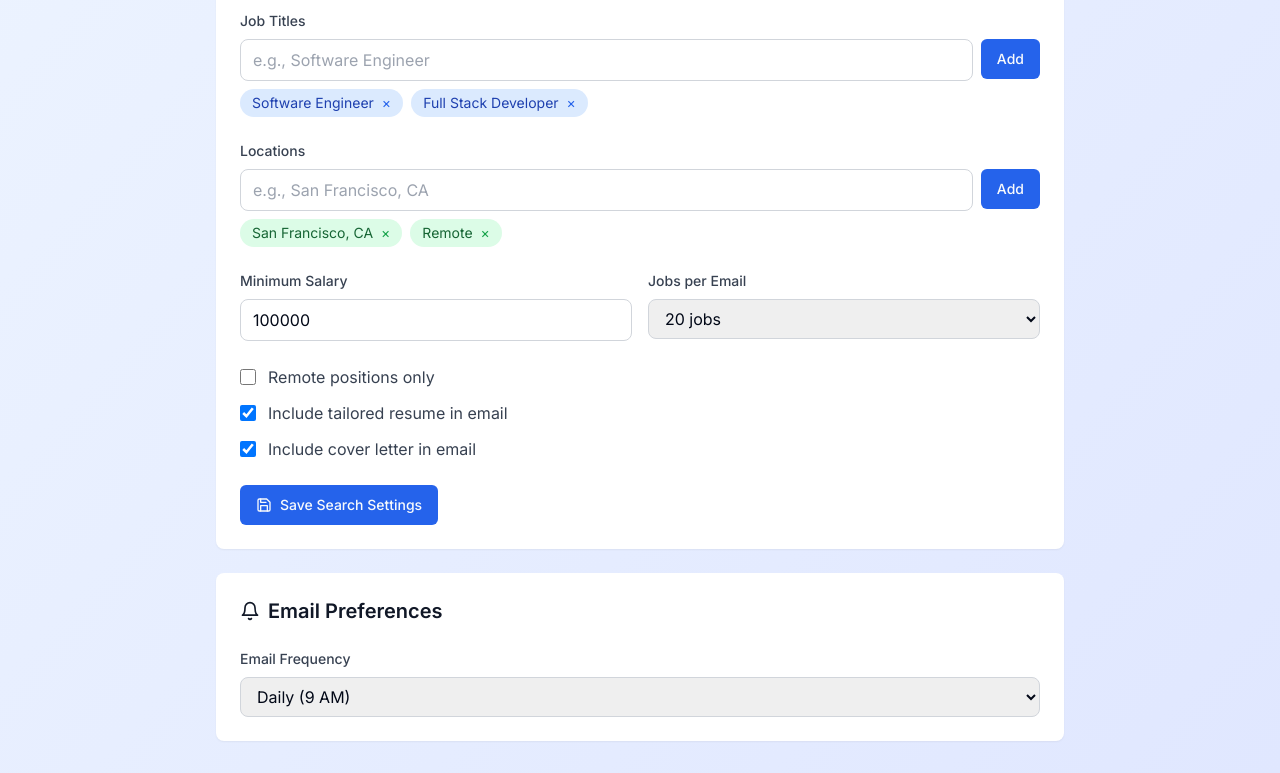
Test: SettingsPage › Search Settings › saves search settings
The image size is (1280, 773).
(page scrolled)
Expected: the text "Software Engineer" is shown, [252, 94, 374, 111]
Click the button "Save Search Settings". click: click(339, 505)
box: [240, 485, 438, 525]
(page scrolled)
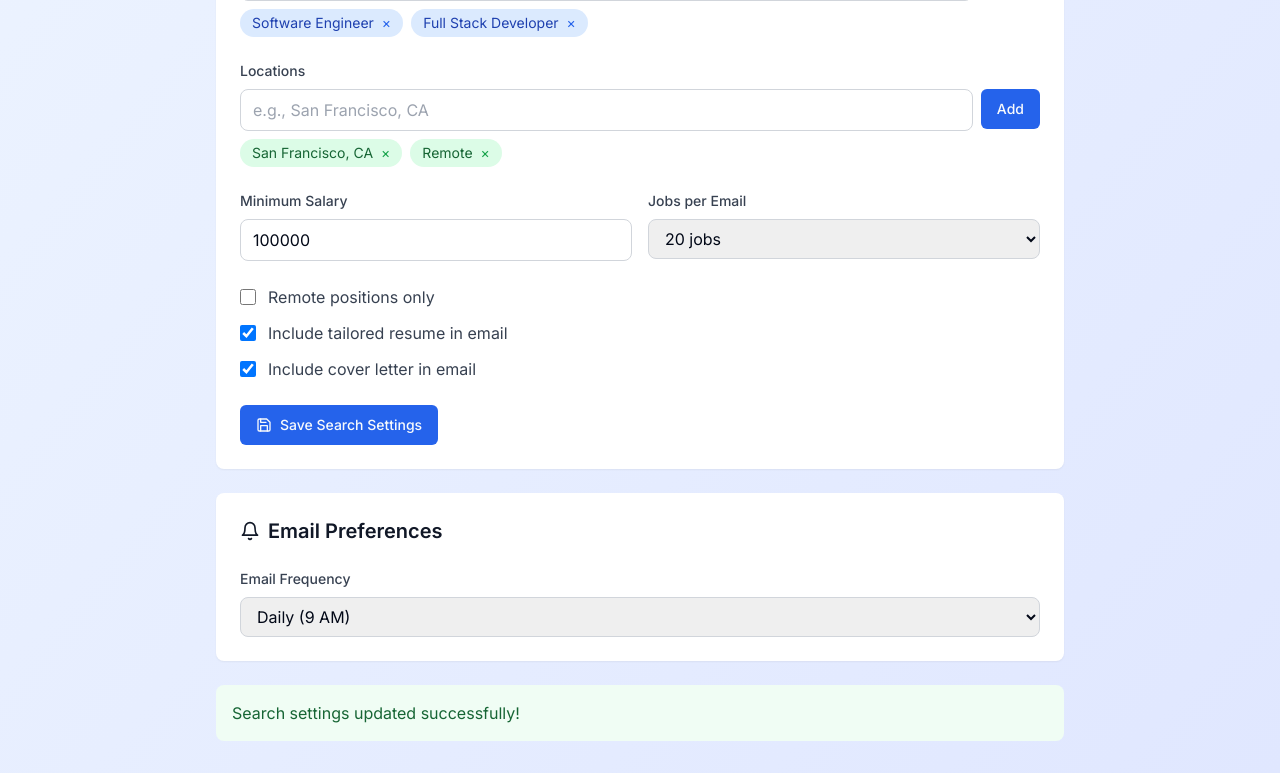
Result: the text "Search settings updated successfully!" is shown at [216, 685, 1064, 741]
